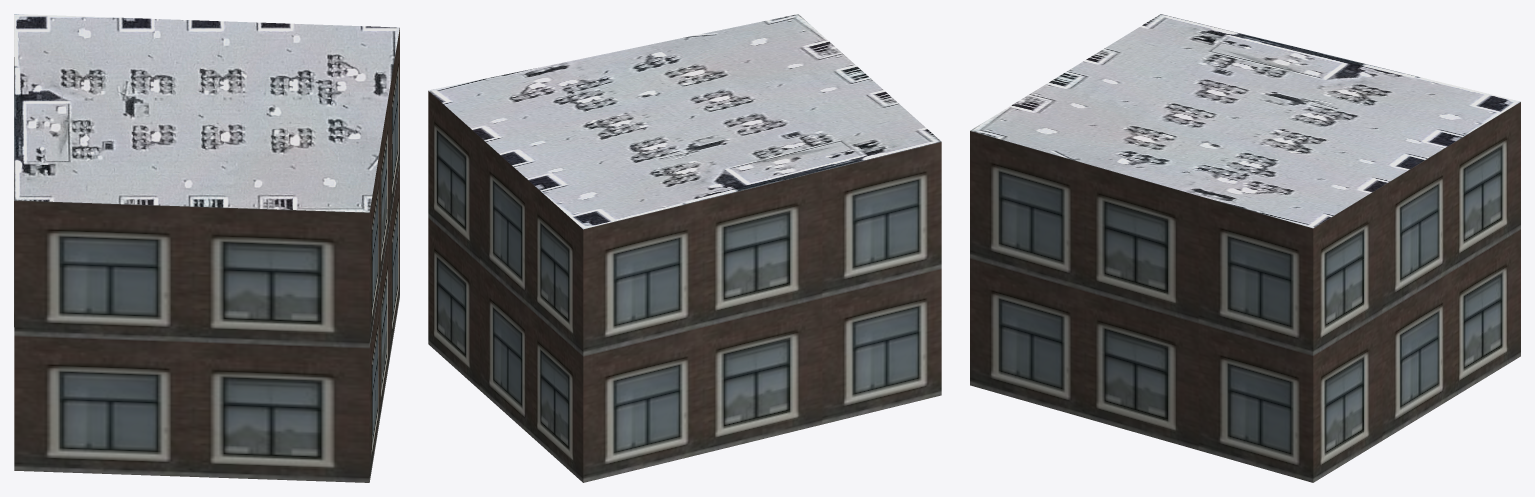
The model's file is ResTex__914.fbx.
3 views of the same model, side by side, from view 1: azimuth 30°, elevation 25°; view 2: azimuth 150°, elevation 25°; view 3: azimuth 270°, elevation 25° (orthographic). The views are drawn at different scales.
Parts seen in each view (by area): view 1: CityEngineMaterial_16_m, CityEngineMaterial_15_m; view 2: CityEngineMaterial_16_m, CityEngineMaterial_15_m; view 3: CityEngineMaterial_16_m, CityEngineMaterial_15_m.
Boxes of the visible parts, bbox=[...] form: CityEngineMaterial_16_m: bbox=[14, 28, 399, 482]; CityEngineMaterial_15_m: bbox=[14, 14, 399, 212]; CityEngineMaterial_16_m: bbox=[428, 91, 941, 482]; CityEngineMaterial_15_m: bbox=[428, 14, 941, 229]; CityEngineMaterial_16_m: bbox=[970, 102, 1520, 482]; CityEngineMaterial_15_m: bbox=[970, 14, 1520, 228].
Bounding box in the file's own units: 10.83 × 6 × 11.77.
2 materials, 2 textured.
